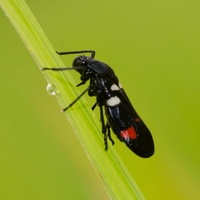insect: (42, 50, 153, 157)
